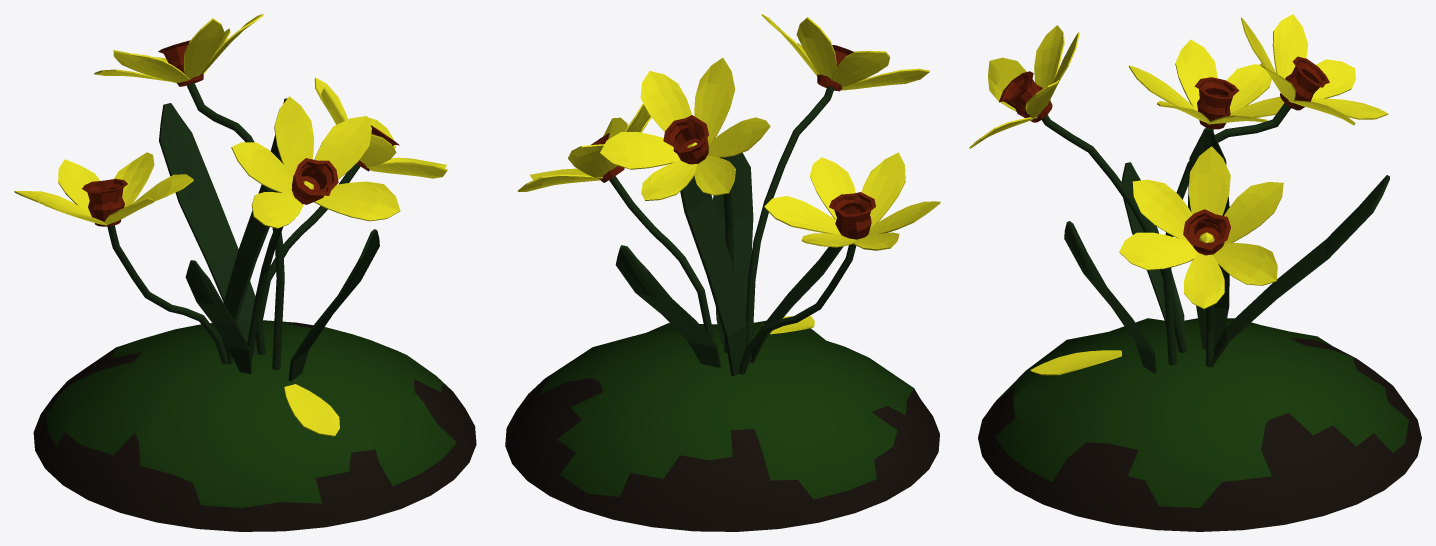
File: Daffodil_426.obj
The picture shows the model from 3 angles, left to right: view 1: azimuth 30°, elevation 25°; view 2: azimuth 150°, elevation 25°; view 3: azimuth 270°, elevation 25°; orthographic projection.
Visible parts, largest first — view 1: Sphere001, GeoSphere002, Box013; view 2: Sphere001, GeoSphere002; view 3: Sphere001, GeoSphere002, Box013.
Boxes of the visible parts, x1=… form: Sphere001: x1=33, y1=320, x2=476, y2=531; GeoSphere002: x1=14, y1=14, x2=447, y2=381; Box013: x1=284, y1=384, x2=339, y2=436; Sphere001: x1=505, y1=320, x2=939, y2=531; GeoSphere002: x1=518, y1=14, x2=940, y2=376; Sphere001: x1=978, y1=318, x2=1421, y2=531; GeoSphere002: x1=969, y1=14, x2=1389, y2=373; Box013: x1=1030, y1=350, x2=1121, y2=375.
Size of the model in its own units: 120 by 114 by 114.
